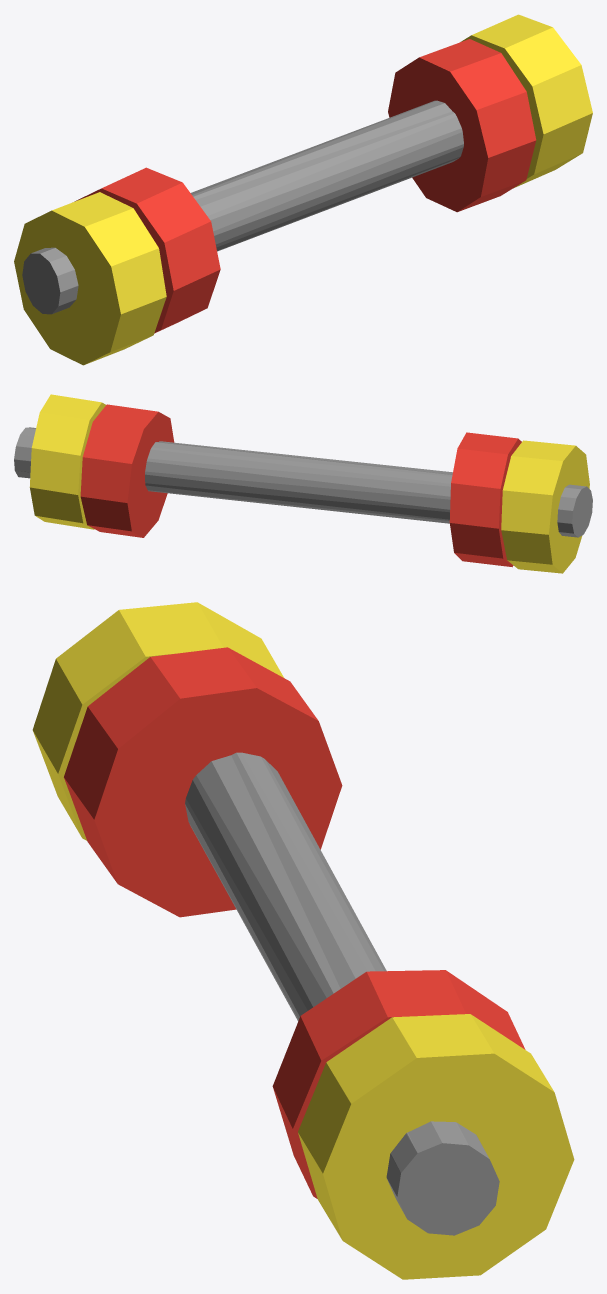
3 renders of one model, top to bottom at view 1: azimuth 30°, elevation 25°; view 2: azimuth 150°, elevation 25°; view 3: azimuth 270°, elevation 25°, orthographic. The views are drawn at different scales.
Parts seen in each view (by area): view 1: mesh_993298285, group_355613907, group_1979556503, group_1379841101, group_15837408; view 2: mesh_993298285, group_1979556503, group_355613907, group_15837408, group_1379841101; view 3: group_1379841101, group_15837408, mesh_993298285, group_355613907, group_1979556503.
Boxes of the visible parts, x1,y1,x2,y2 form: mesh_993298285: (22,100,463,314); group_355613907: (14,192,166,365); group_1979556503: (388,39,536,212); group_1379841101: (461,14,592,188); group_15837408: (74,167,220,333); mesh_993298285: (14,427,592,537); group_1979556503: (80,404,174,537); group_355613907: (501,440,589,573); group_15837408: (449,432,521,567); group_1379841101: (29,394,105,529); group_1379841101: (298,1014,574,1279); group_15837408: (64,647,342,917); mesh_993298285: (185,752,499,1235); group_355613907: (32,602,283,840); group_1979556503: (272,970,525,1198).
Bounding box in the file's own units: 88.12 × 20.89 × 41.78.
